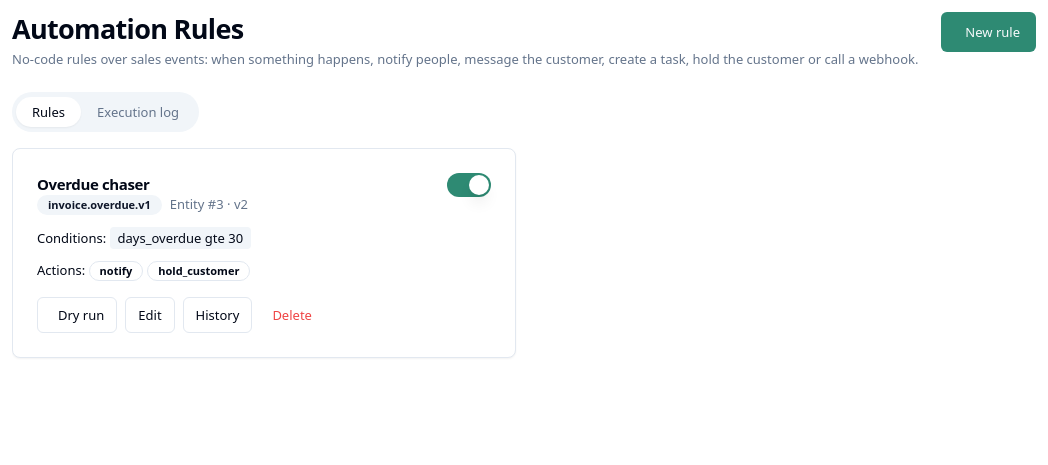
AutomationRulesPage (#913) › lists rules and shows the execution log with per-action status
This screenshot has width=1048, height=465.
Expected: the heading "Overdue chaser" is shown, [37,174,150,194]
Expected: the text "invoice.overdue.v1" is shown, [37,195,162,215]
Press the mouse on the tab "Execution log" at (138,112), box [81,97,195,127]
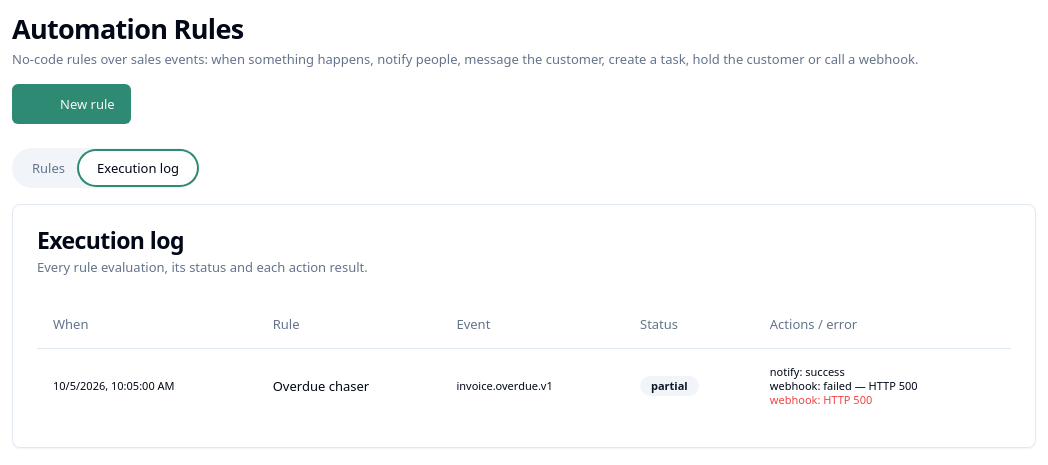
Now the text "partial" is shown, box [640,376,699,396]
Now the text "webhook: HTTP 500" is shown, box [770,392,872,406]
